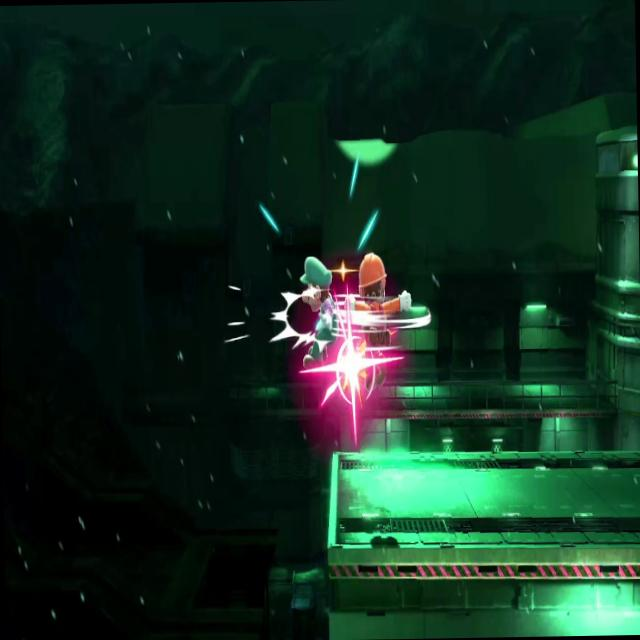Mario: (295, 243, 340, 375)
Mario-Down Air: (340, 248, 412, 396)
